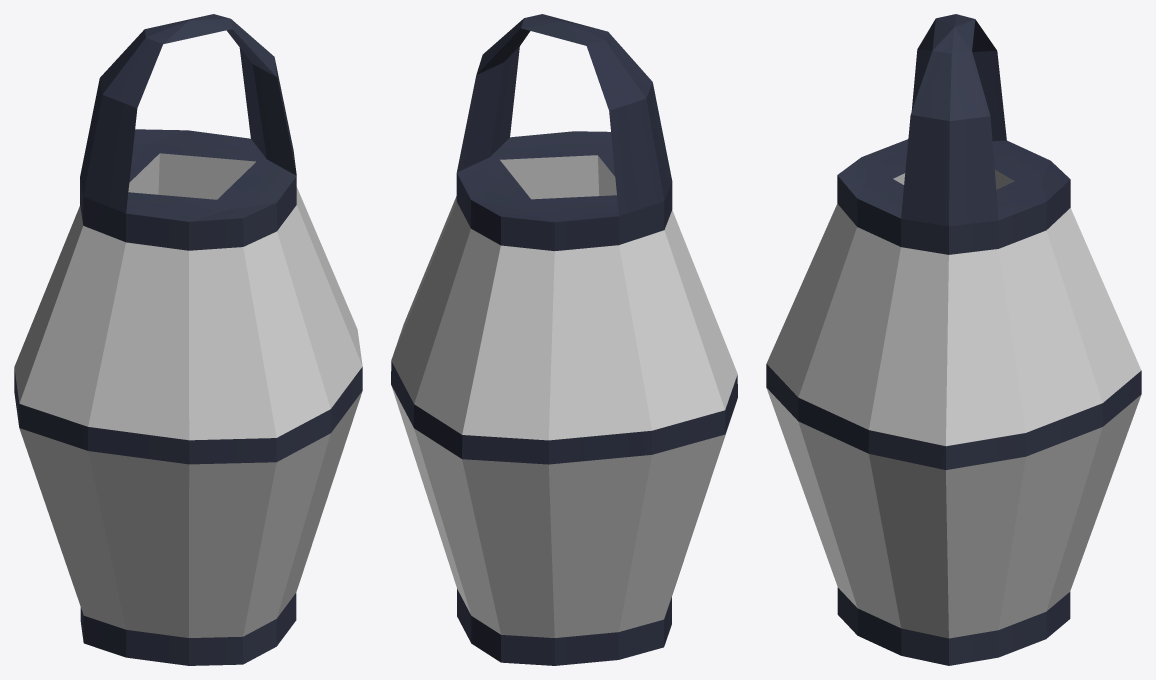
The model's file is Interior_Candle02.fbx.
3 renders of one model, left to right at view 1: azimuth 30°, elevation 25°; view 2: azimuth 150°, elevation 25°; view 3: azimuth 270°, elevation 25°, orthographic.
Parts seen in each view (by area): view 1: Lamp_Lantern_GlassCandle; view 2: Lamp_Lantern_GlassCandle; view 3: Lamp_Lantern_GlassCandle.
Part boxes in pixels (bbox=[...]): Lamp_Lantern_GlassCandle: bbox=[14, 14, 362, 665]; Lamp_Lantern_GlassCandle: bbox=[391, 14, 737, 665]; Lamp_Lantern_GlassCandle: bbox=[766, 14, 1141, 665].
Bounding box in the file's own units: 23.4 × 40.59 × 23.4.
